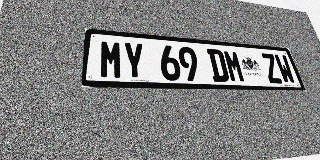6: (159, 45, 182, 81)
9: (177, 46, 201, 81)
D: (206, 49, 230, 82)
M: (99, 40, 123, 79), (223, 50, 246, 82)
W: (273, 54, 297, 84)
Y: (123, 42, 146, 80)
Z: (260, 53, 283, 83)
